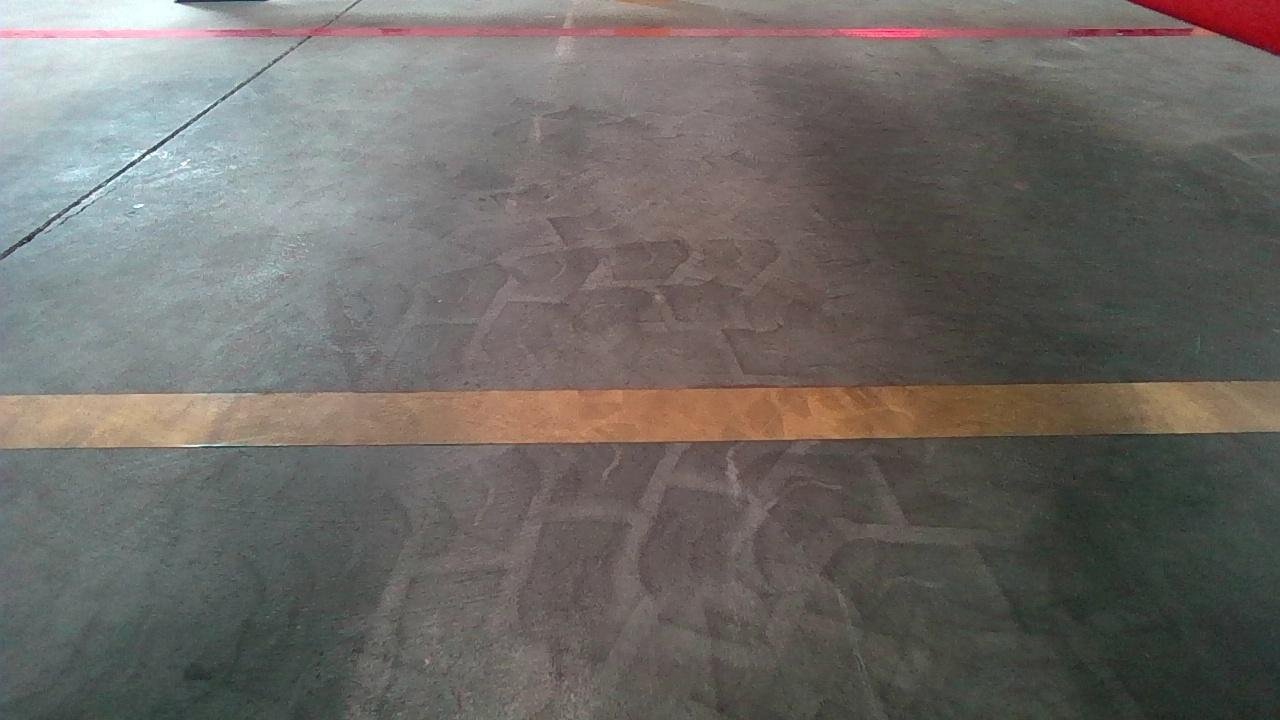yellow_line: (0, 378, 1277, 450)
